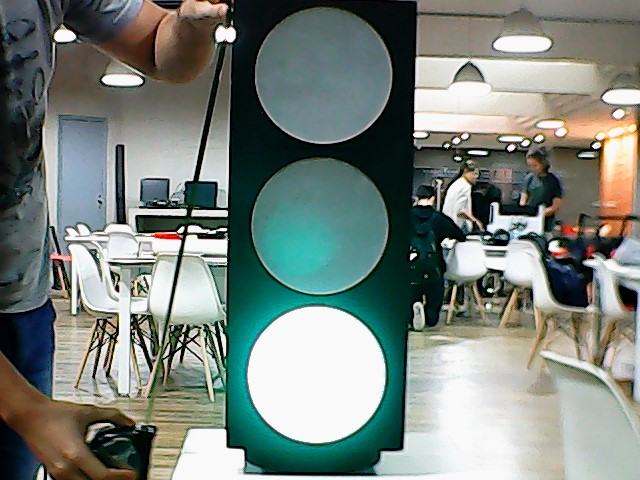verde: (226, 1, 420, 460)
